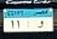1: (16, 20, 20, 29), (10, 20, 14, 29)
waw: (37, 20, 44, 29)
